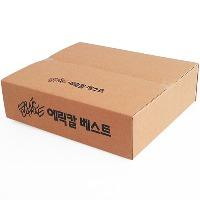undamaged: (0, 37, 198, 164)
